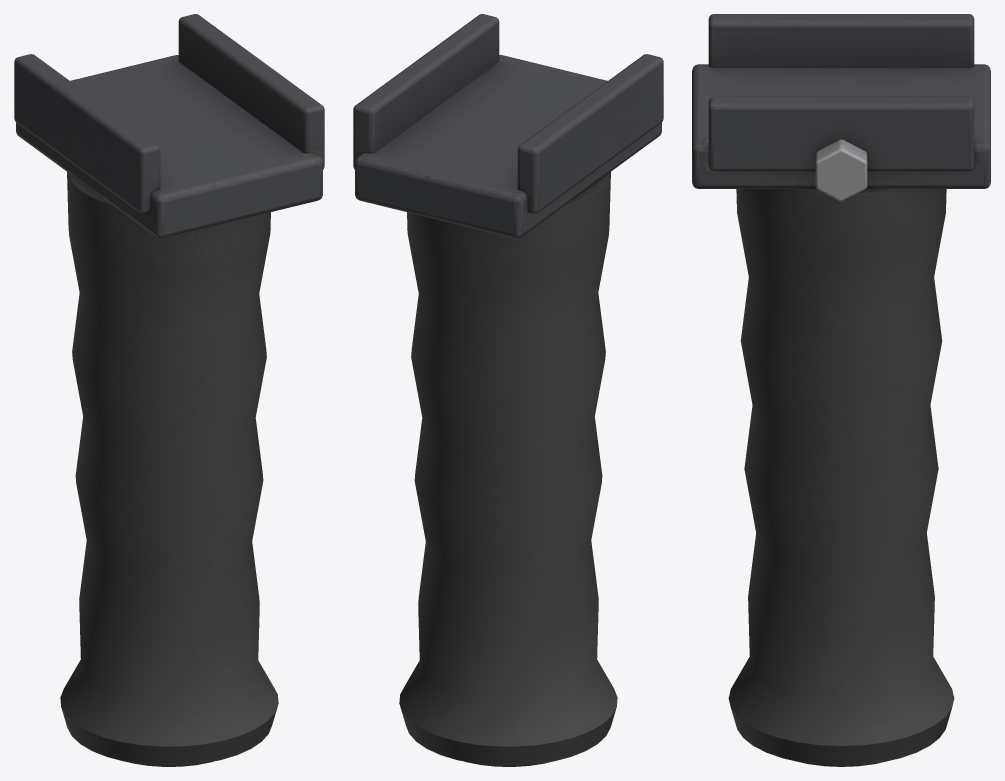
File: grip-vertical.glb
3 views of the same model, side by side, from view 1: azimuth 30°, elevation 25°; view 2: azimuth 150°, elevation 25°; view 3: azimuth 270°, elevation 25° (orthographic). The views are drawn at different scales.
Visible parts, largest first — view 1: body; view 2: body; view 3: body.
Part boxes in pixels (x1,y1,x2,y2): body: [14, 14, 324, 766]; body: [353, 14, 663, 766]; body: [692, 14, 990, 766].
Bounding box in the file's own units: 0.0298 × 0.0894 × 0.036.
4 materials, 4 textured.
